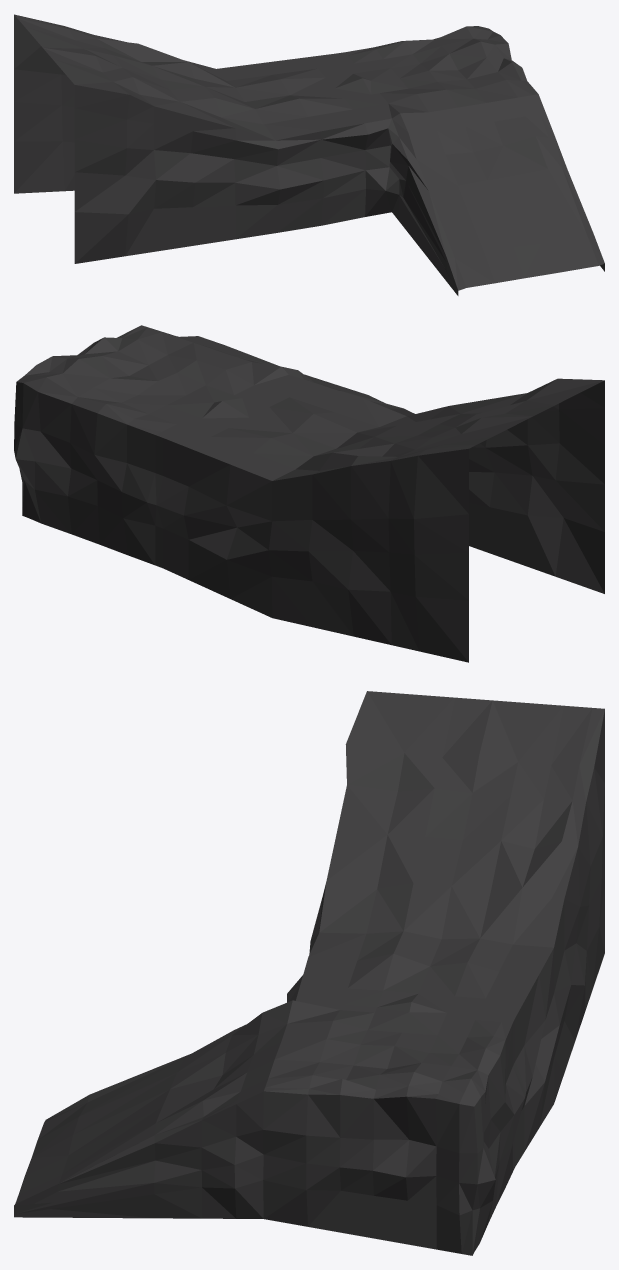
Rendered from Cave_14B_1.fbx.
The picture shows the model from 3 angles, top to bottom: view 1: azimuth 30°, elevation 25°; view 2: azimuth 150°, elevation 25°; view 3: azimuth 270°, elevation 25°; orthographic projection. The views are drawn at different scales.
Parts seen in each view (by area): view 1: pCube760; view 2: pCube760; view 3: pCube760.
Boxes of the visible parts, x1,y1,x2,y2 form: pCube760: [14, 14, 604, 295]; pCube760: [14, 325, 604, 662]; pCube760: [14, 691, 604, 1255].
Bounding box in the file's own units: 23.79 × 9.98 × 19.57.
